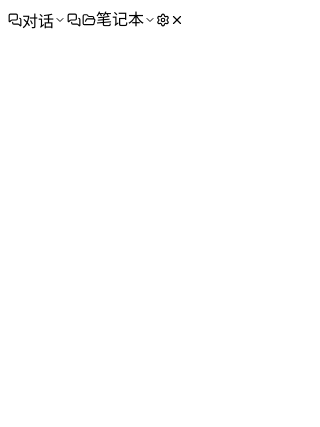
Scenario: floating bar conversation › sends general chat on its independent conversation and keeps it when the panel closes
Click the button named "打开对话". click: click(74, 20)
box: [67,13,81,27]
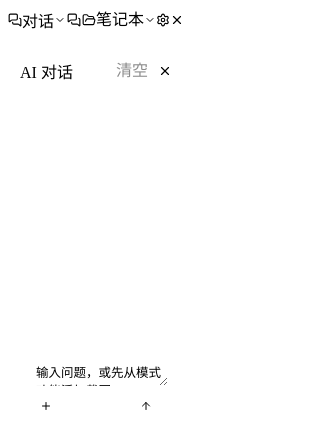
Type "我叫小明" into the text box named "补充问题". click: (100, 375)
box: [32,364,168,386]
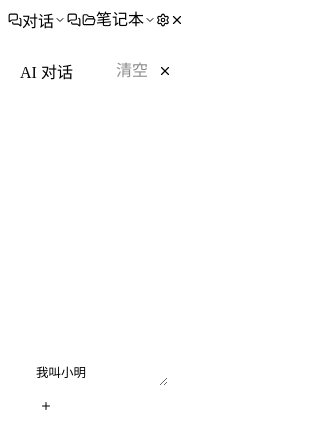
Press Enter in the text box named "补充问题", box [32,364,168,386]
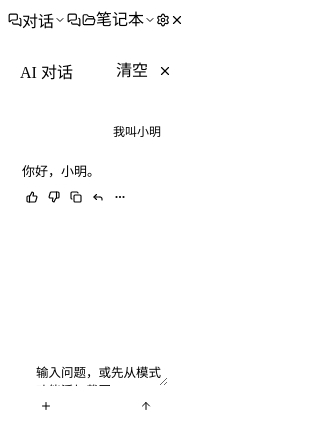
expect the text "你好，小明。" is shown: met, box [22,164,100,179]
Click the button named "收起面板". click: click(165, 71)
box: [158,64,172,78]
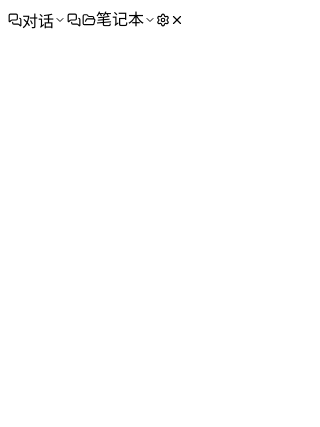
expect the heading "AI 对话" is gone: met
Click the button named "打开对话". click: click(74, 20)
box: [67,13,81,27]
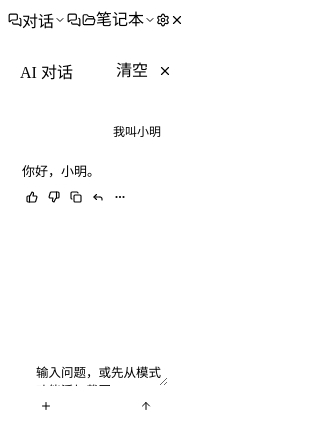
expect the text "我叫小明" is shown: met, box [113,125,161,139]
expect the text "你好，小明。" is shown: met, box [22,164,100,179]
